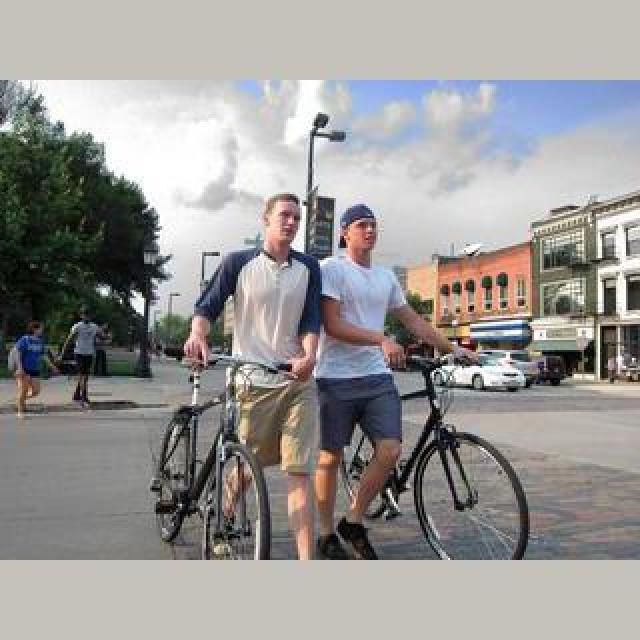Bus-Bike: (446, 352, 530, 392)
MC-Bike: (310, 202, 466, 552), (180, 192, 324, 554), (60, 308, 106, 406), (10, 320, 50, 418)
Person: (334, 354, 530, 560), (152, 352, 294, 558)
